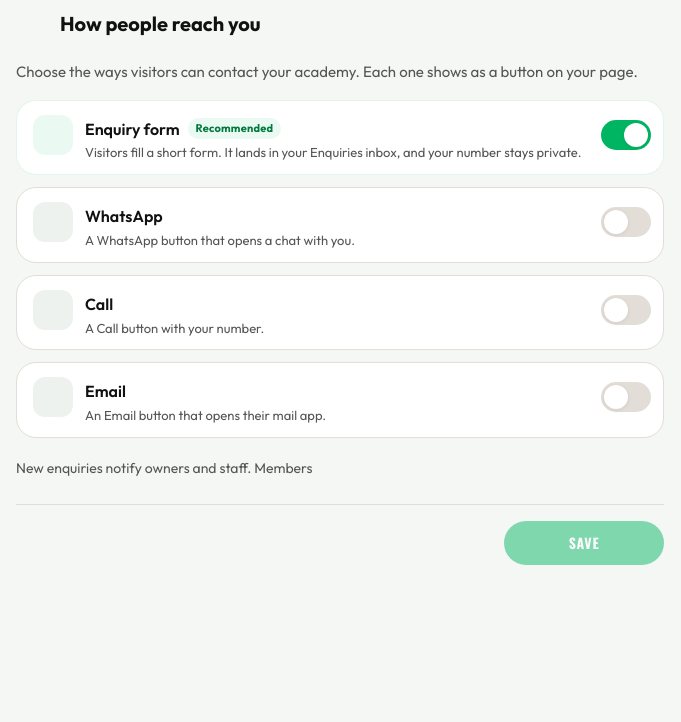
Test case: ContactSettingsPage › refuses WhatsApp on with no number before anything is sent
Click the switch named "WhatsApp".
click(626, 222)  # box [601,200,651,244]
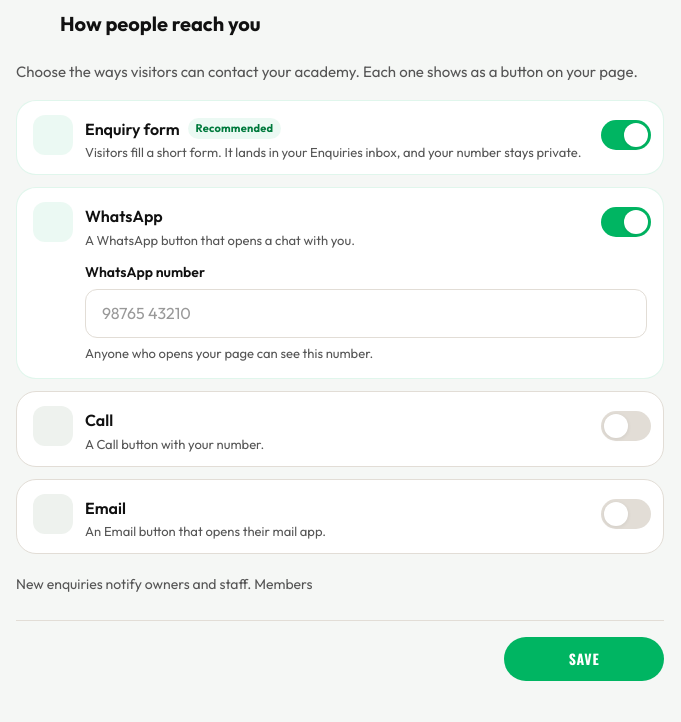
Click the button "Save".
click(584, 659)  # box [504,637,664,681]
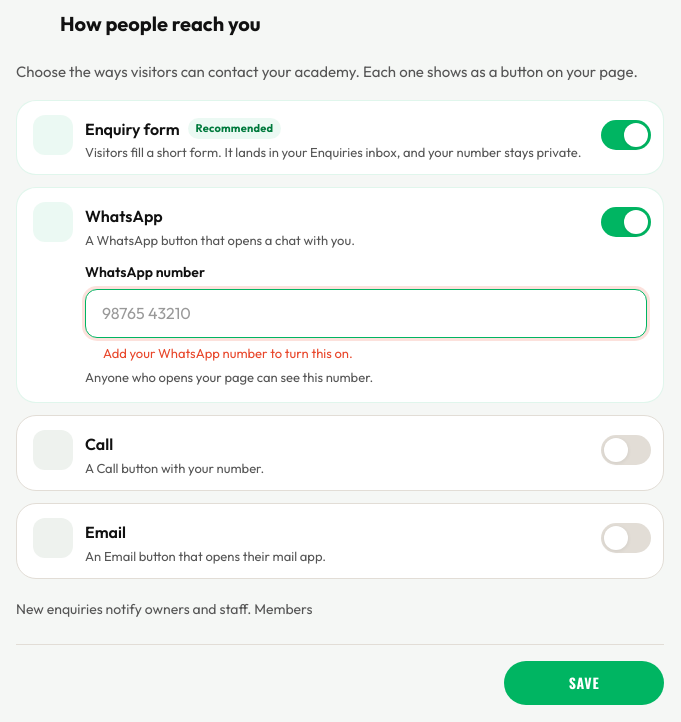
Check: the text "Add your WhatsApp number to turn this on." is shown, box [103,344,353,362]
